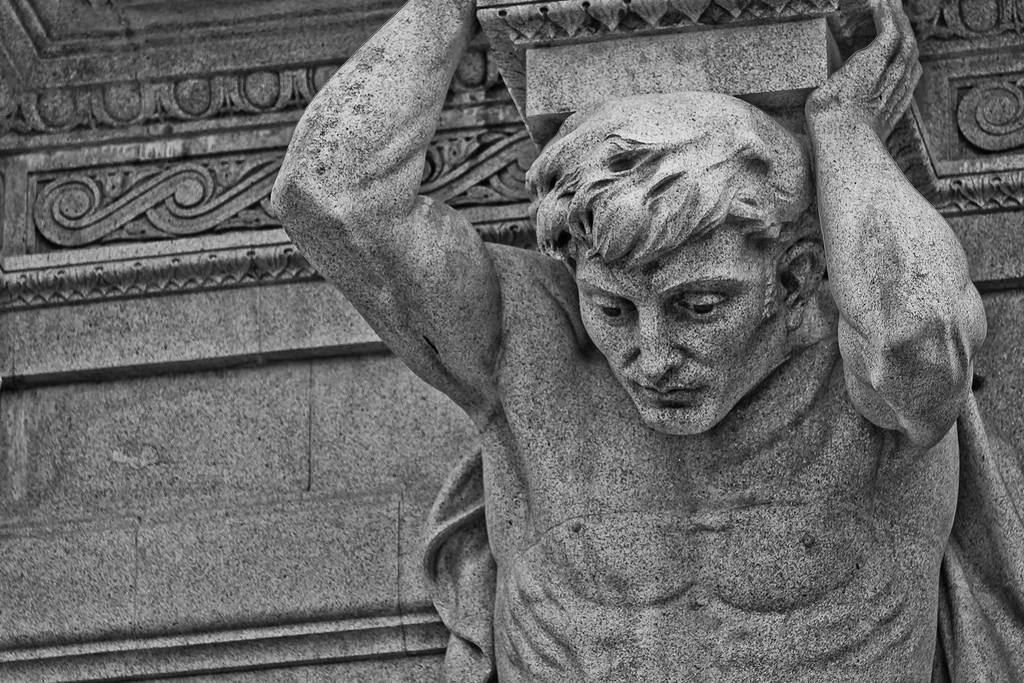Sem Máscara: (583, 202, 799, 428)
